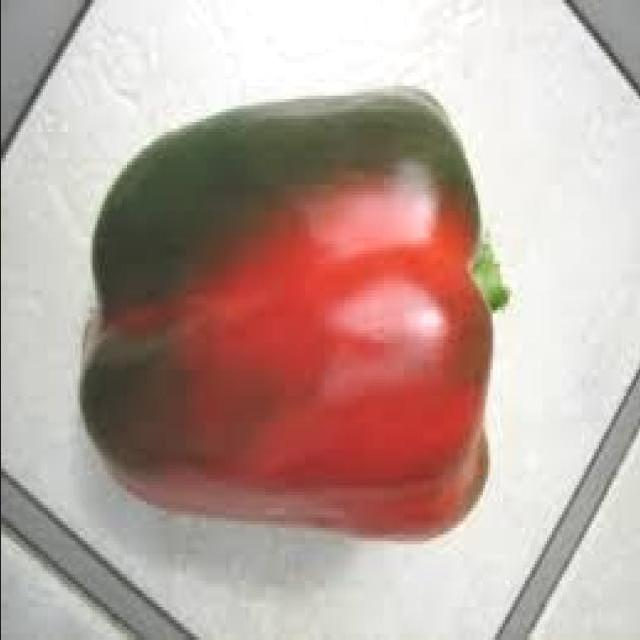bell_pepper: (49, 34, 535, 569)
